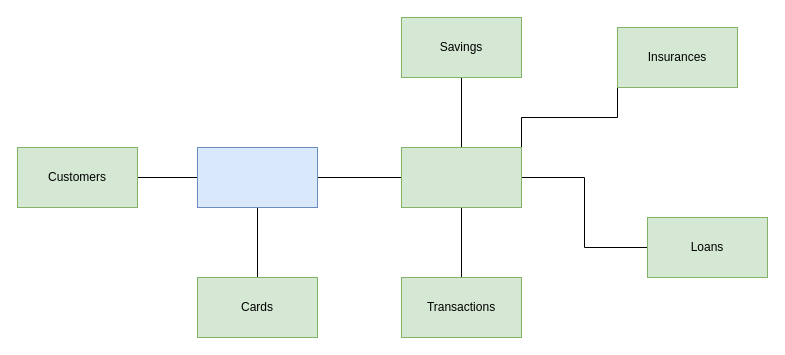
Image size: 785x355. Some labels were removed from this diagram. Each missing label, with the centre of its shape:
Accounts: pixel 461 177
Dispositions: pixel 257 177
